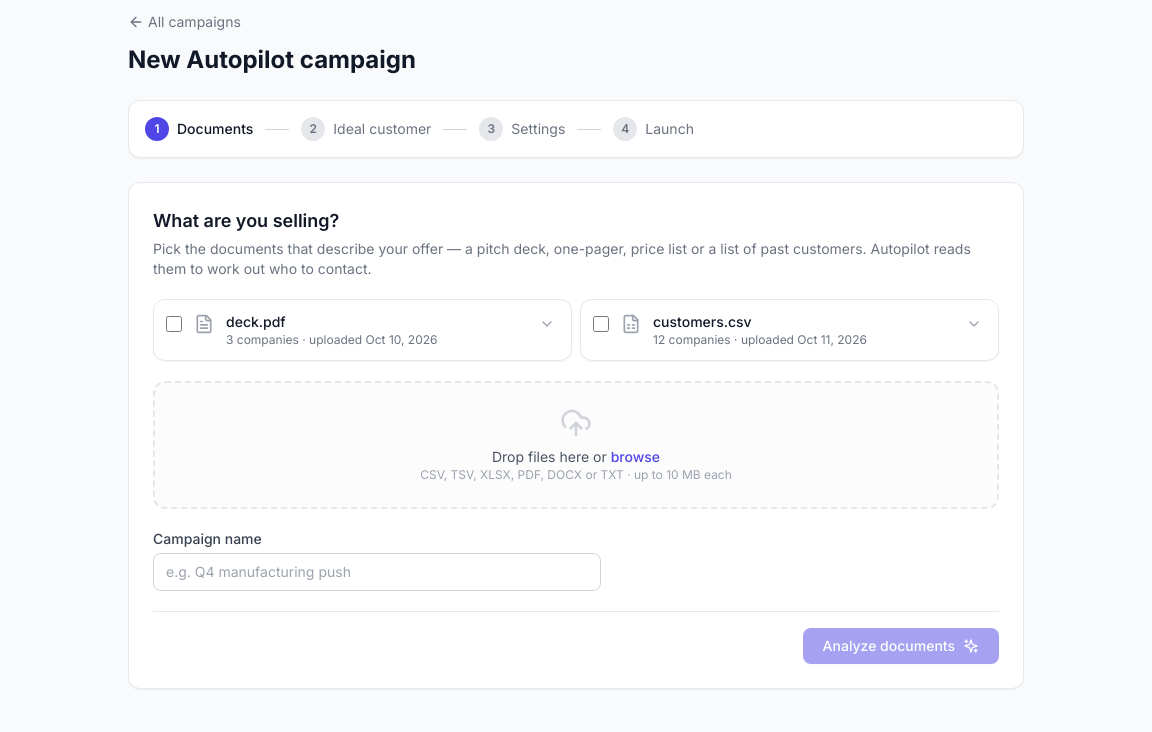
CampaignNew wizard › shows a document preview on demand
Click the button named "Show preview of deck.pdf".
click(547, 324)  # box [535,312,559,336]
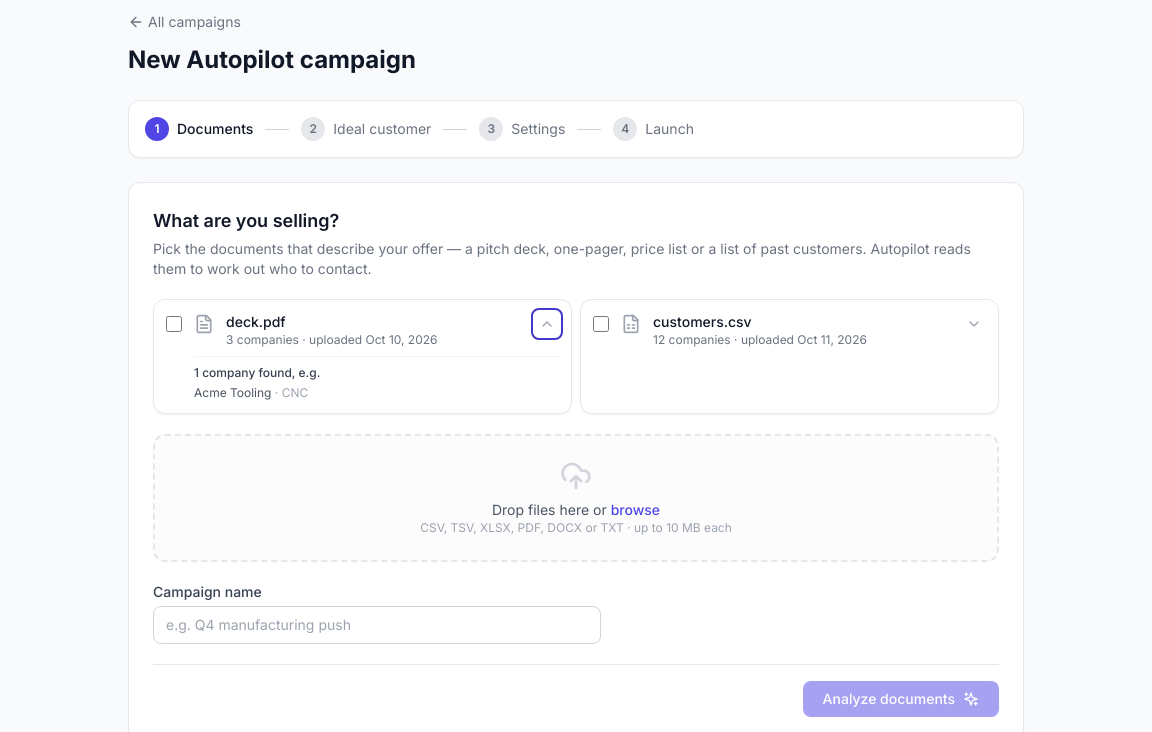
Expected: the element with test id "doc-preview-d1" shows "Acme Tooling", [194,385,272,400]
